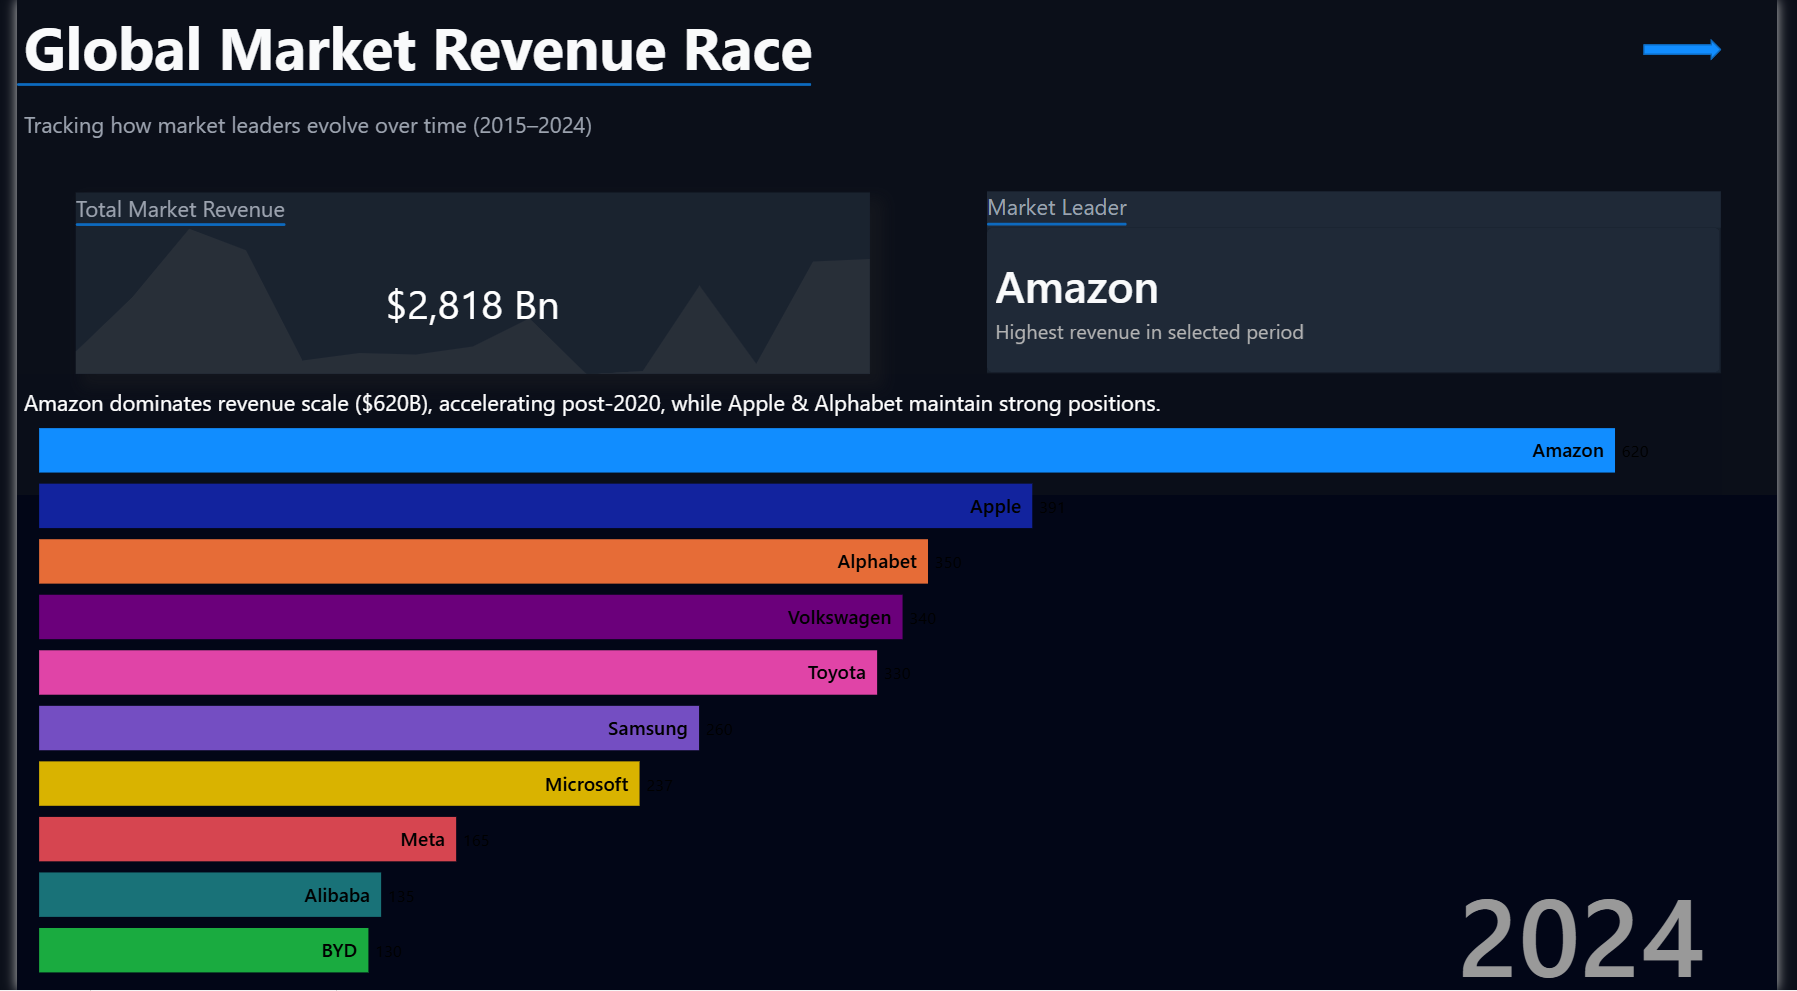

The dashboard page shown, as its layout file describes it:
{"tool":"powerbi","page":{"name":"Page 1","canvas":[1280,720],"ordinal":0},"visuals":[{"type":"shape","box":[0,360.3,1280,360.3],"z":0},{"type":"shape","box":[0,0,1279.5,359.5],"z":1000},{"type":"wishyoulizationbarchartrace","fields":{"name":["Sheet1.Company"],"value":["Sum(Sheet1.Revenue (USD Bn))"],"year":["Sum(Sheet1.Year)"]},"box":[0,271.6,1240.1,448.9],"z":2000},{"type":"textbox","box":[0,0,774.5,109.5],"z":3000},{"type":"kpi","title":"Total Market Revenue","fields":{"Indicator":["MarketData.Total Revenue"],"TrendLine":["MarketData.Company"]},"box":[42.4,140.4,577.4,131.9],"z":4000},{"type":"shape","box":[0,55.4,577.8,12],"z":5000},{"type":"shape","box":[42.4,157.4,152.5,12.1],"z":6000},{"type":"cardVisual","title":"Market Leader","fields":{"Data":["MarketData.Top Company"]},"box":[705.7,139.2,533.8,131.9],"z":7000},{"type":"shape","box":[705.7,156.2,101.7,13.3],"z":8000},{"type":"textbox","box":[0,276,1279.5,44.8],"z":9000},{"type":"shape","box":[1182.7,27.8,56.9,15.7],"z":9001}]}

Visuals, with their boxes in screenshot pixels (x1, y1, x2, y2), scaled from the page's 1280x720 canvas onto the 1797x991 screenshot:
shape: BBox(0, 496, 1796, 990)
shape: BBox(0, 0, 1796, 495)
wishyoulizationbarchartrace - Sheet1.Company x Sum(Sheet1.Revenue (USD Bn)): BBox(0, 374, 1741, 990)
textbox: BBox(0, 0, 1087, 151)
"Total Market Revenue" kpi: BBox(60, 193, 870, 375)
shape: BBox(0, 76, 811, 93)
shape: BBox(60, 217, 274, 233)
"Market Leader" cardVisual: BBox(991, 192, 1740, 373)
shape: BBox(991, 215, 1134, 233)
textbox: BBox(0, 380, 1796, 442)
shape: BBox(1660, 38, 1740, 60)
